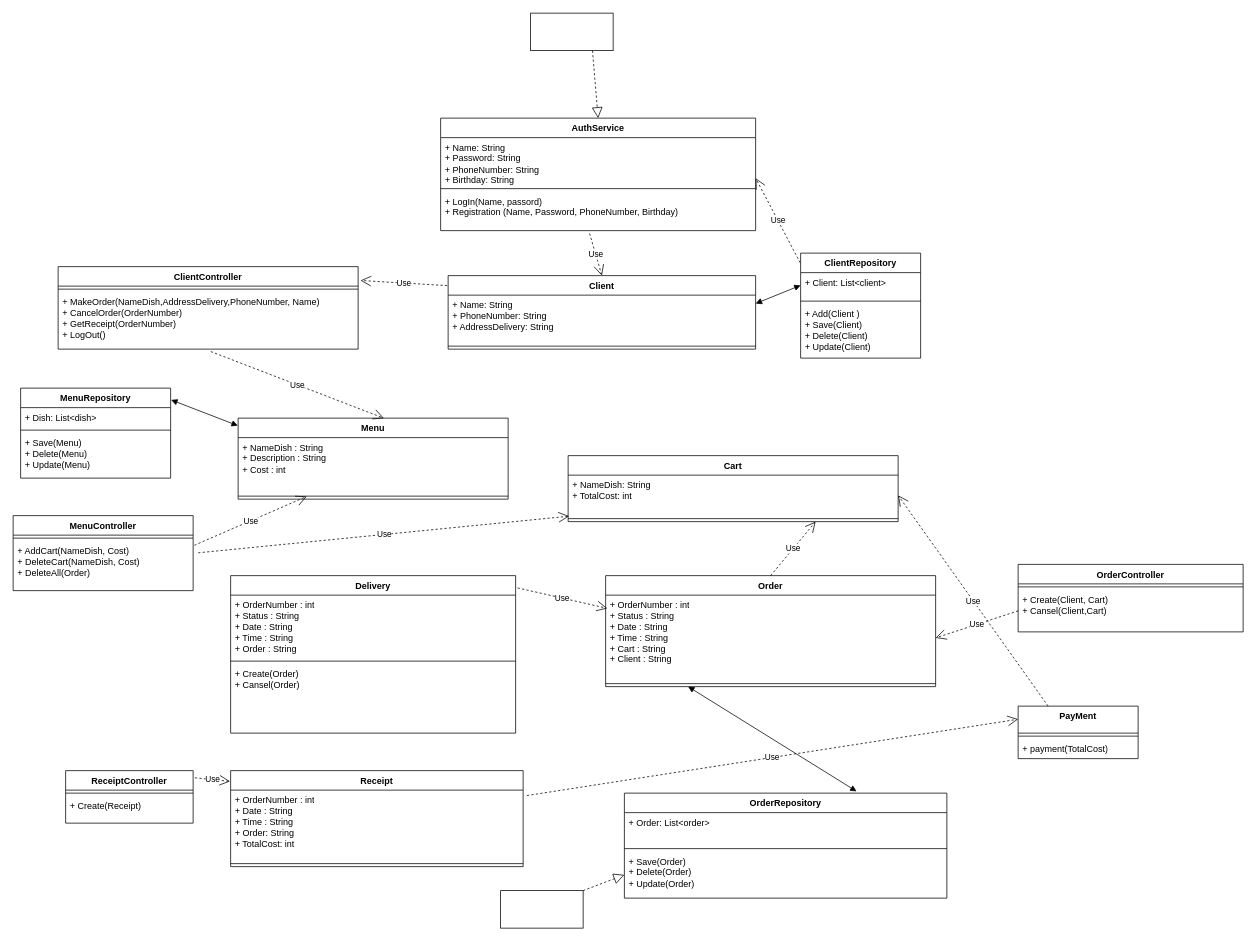
Image size: 1256x941. Some labels were removed from this diagram. Here are the shapes that lost their labels. From the top down, the centre of each, then its label:
At point 571,31: "«interface» BaseAuthService".
At point 541,909: "«interface» BaseOrder".
